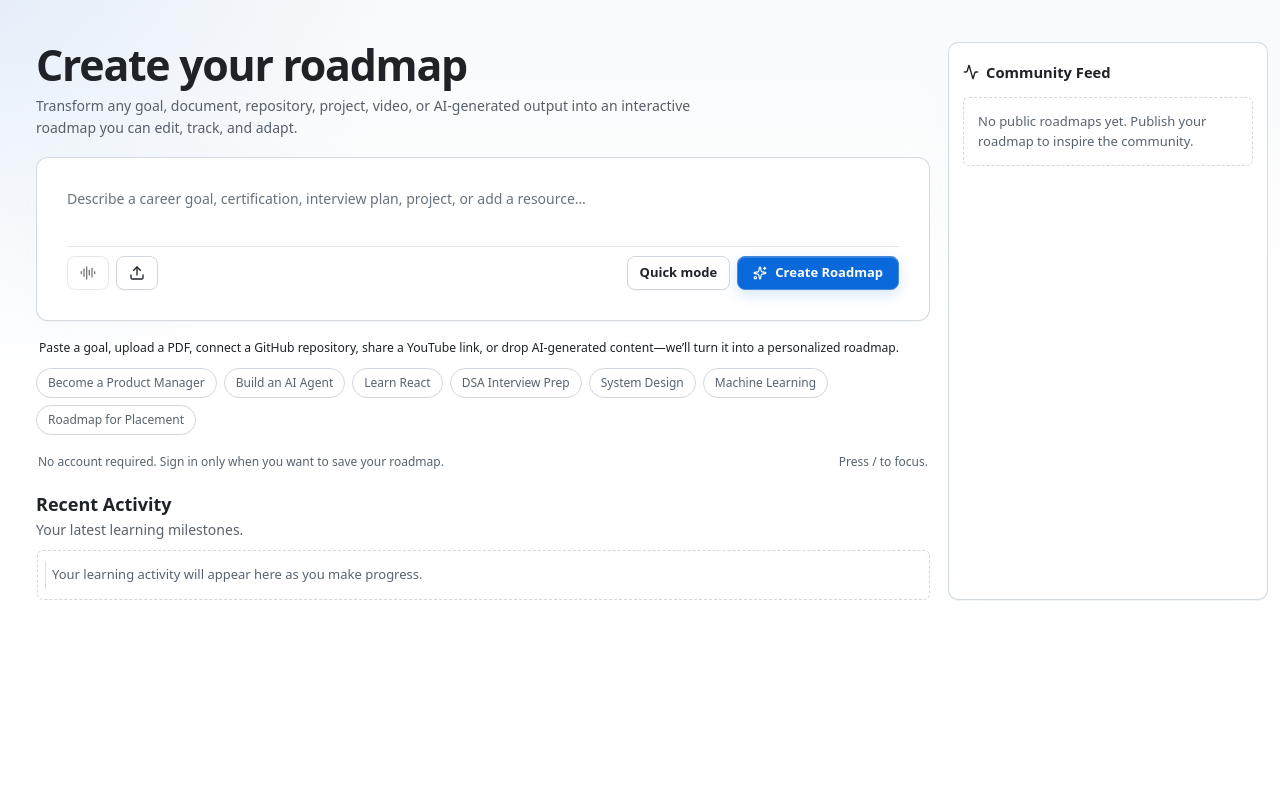
Test: Home roadmap generation flow › puts a suggested goal into the composer without generating it
This screenshot has width=1280, height=800.
Click the button "Build an AI Agent".
click(284, 383)  # box [224,368,345,398]
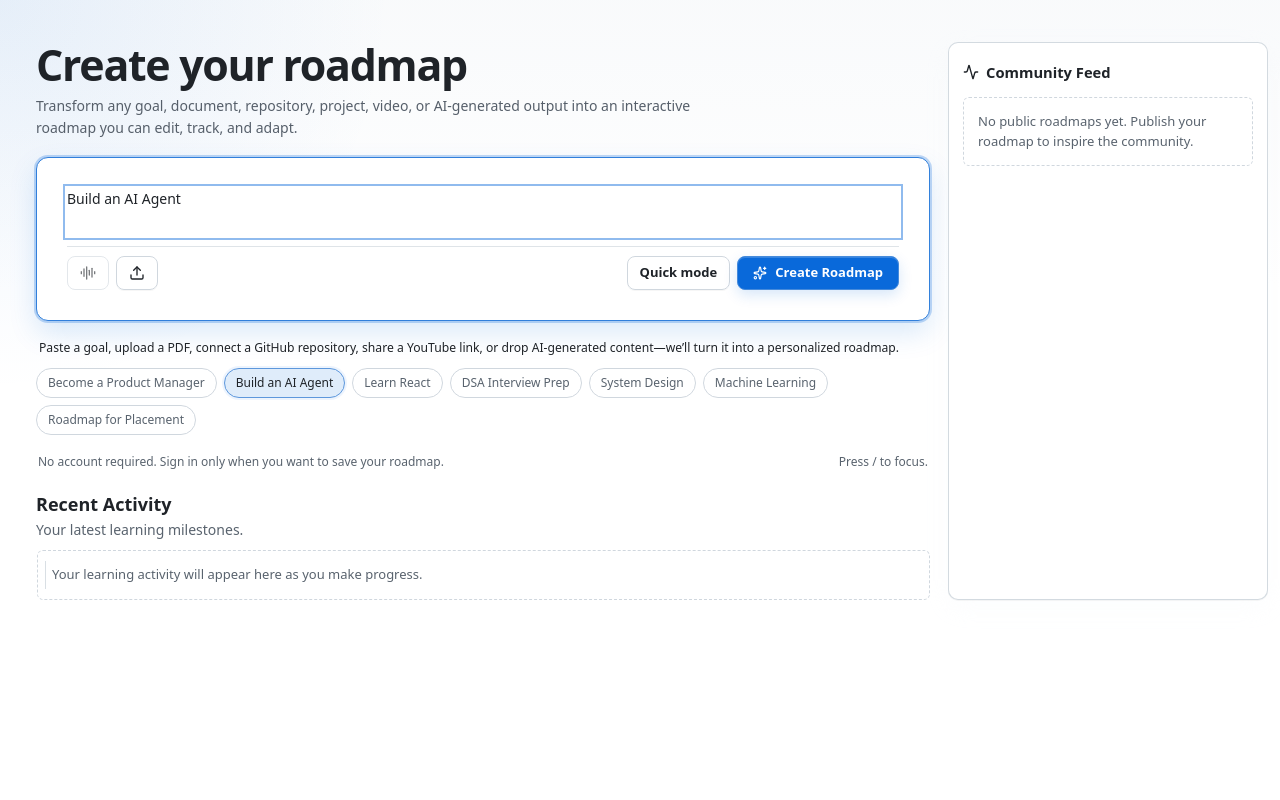
Check: the text box named "Describe your learning goal" holds "Build an AI Agent", box [67,188,899,236]
